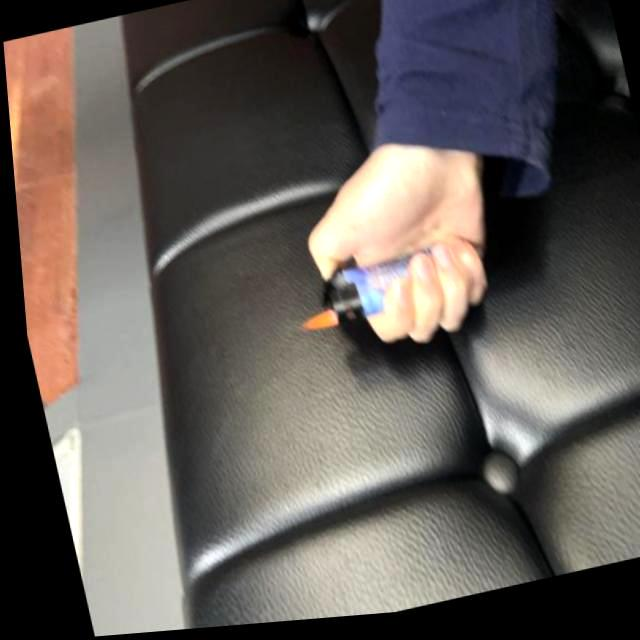fire: (294, 311, 334, 337)
